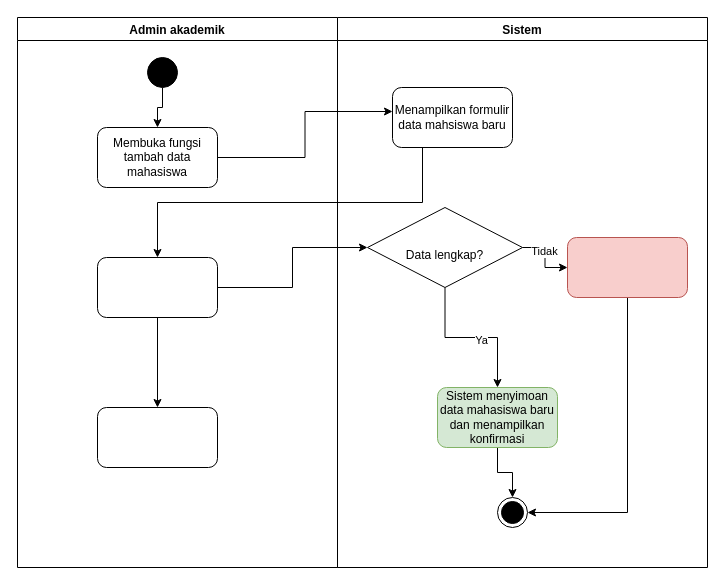
This 725x585 diagram has some shape labels left out. Each missing label, with the box of its shape:
Mengisi data mahasiswa baru(NIM,nama,dan program studi): (96, 256, 218, 318)
Menolak penyimpanan dan meminta admin melengkapi data: (566, 236, 688, 298)
menyimpan data: (96, 406, 218, 468)
